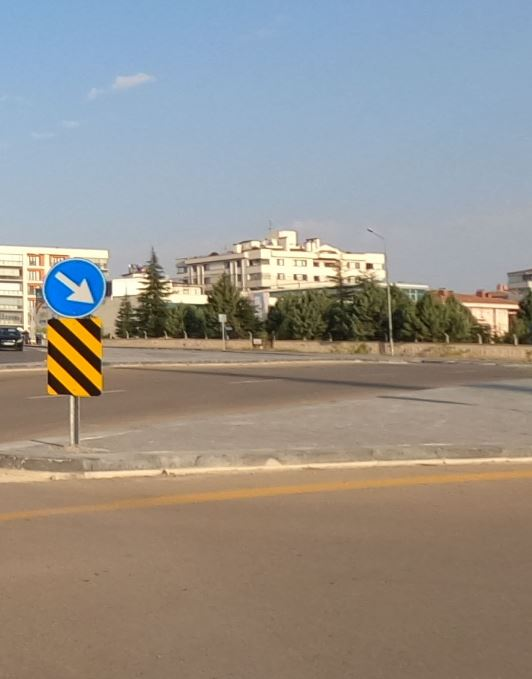Sagdan Git: (41, 250, 109, 314)
